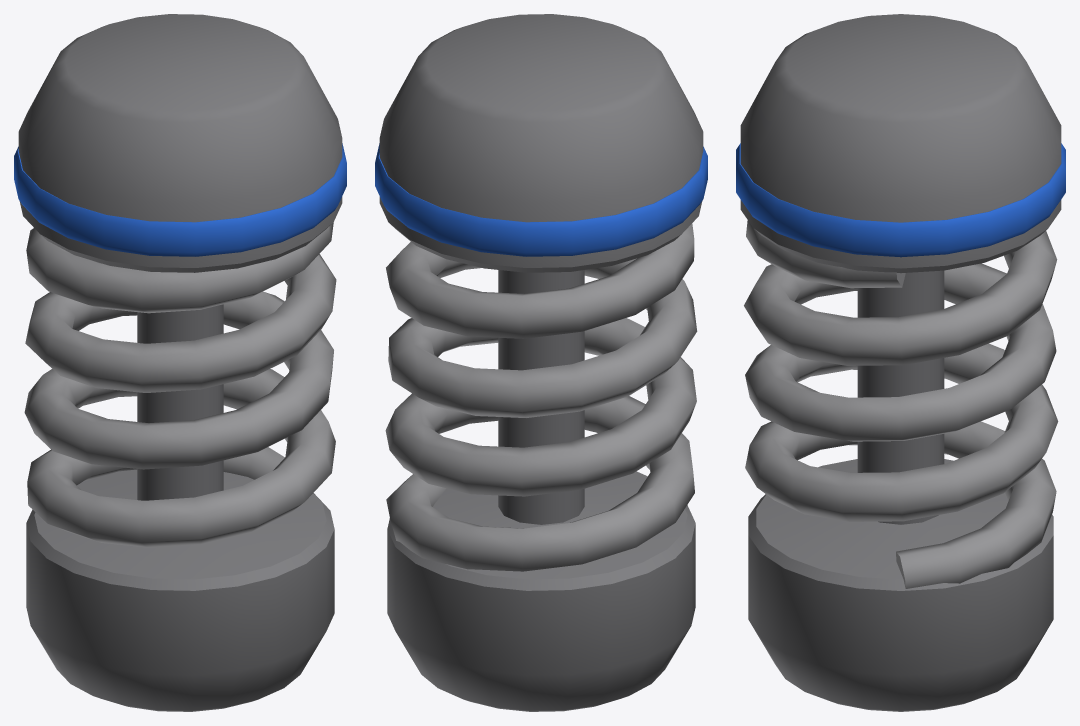
File: Kit_Limb_Spring_S.glb
The picture shows the model from 3 angles, left to right: view 1: azimuth 30°, elevation 25°; view 2: azimuth 150°, elevation 25°; view 3: azimuth 270°, elevation 25°; orthographic projection.
Visible parts, largest first — view 1: Kit_Limb_Spring_S; view 2: Kit_Limb_Spring_S; view 3: Kit_Limb_Spring_S.
Part boxes in pixels (x1,y1,x2,y2): Kit_Limb_Spring_S: (14, 14, 346, 711); Kit_Limb_Spring_S: (375, 14, 707, 711); Kit_Limb_Spring_S: (736, 14, 1065, 711).
Size of the model in its own units: 0.1253 by 0.2492 by 0.124.
